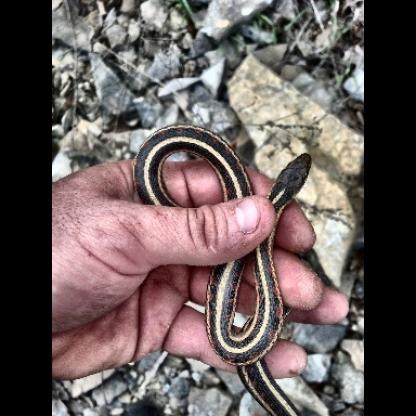Snake: (141, 121, 307, 366)
